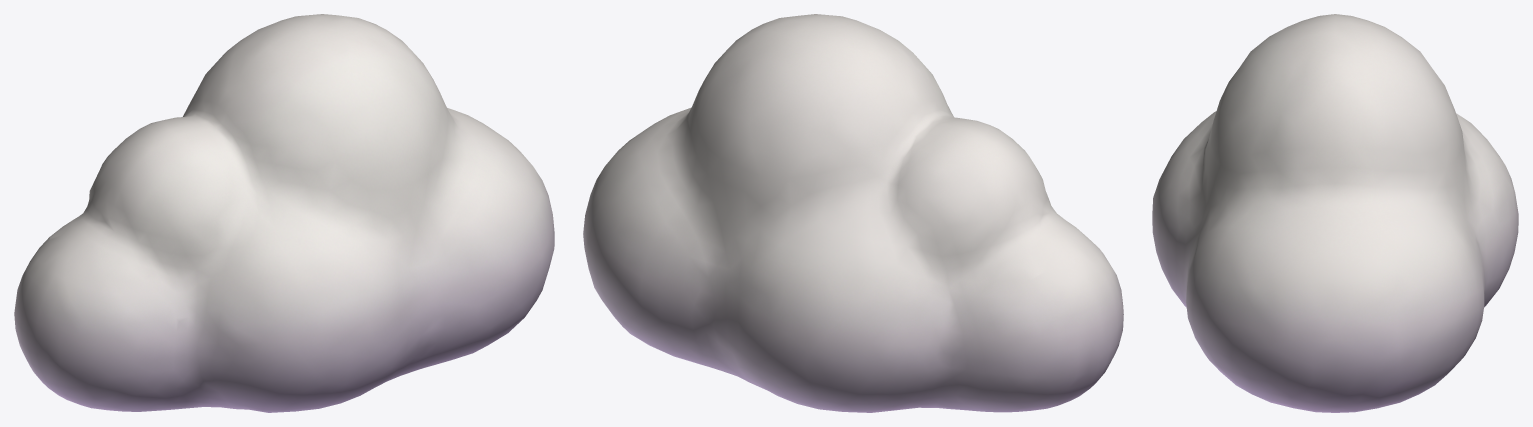
Rendered from cloud.glb.
3 views of the same model, side by side, from view 1: azimuth 30°, elevation 25°; view 2: azimuth 150°, elevation 25°; view 3: azimuth 270°, elevation 25° (orthographic). The views are drawn at different scales.
Bounding box in the file's own units: 0.9575 × 0.6016 × 0.6226.
Materials: 1 (1 with a texture image).
